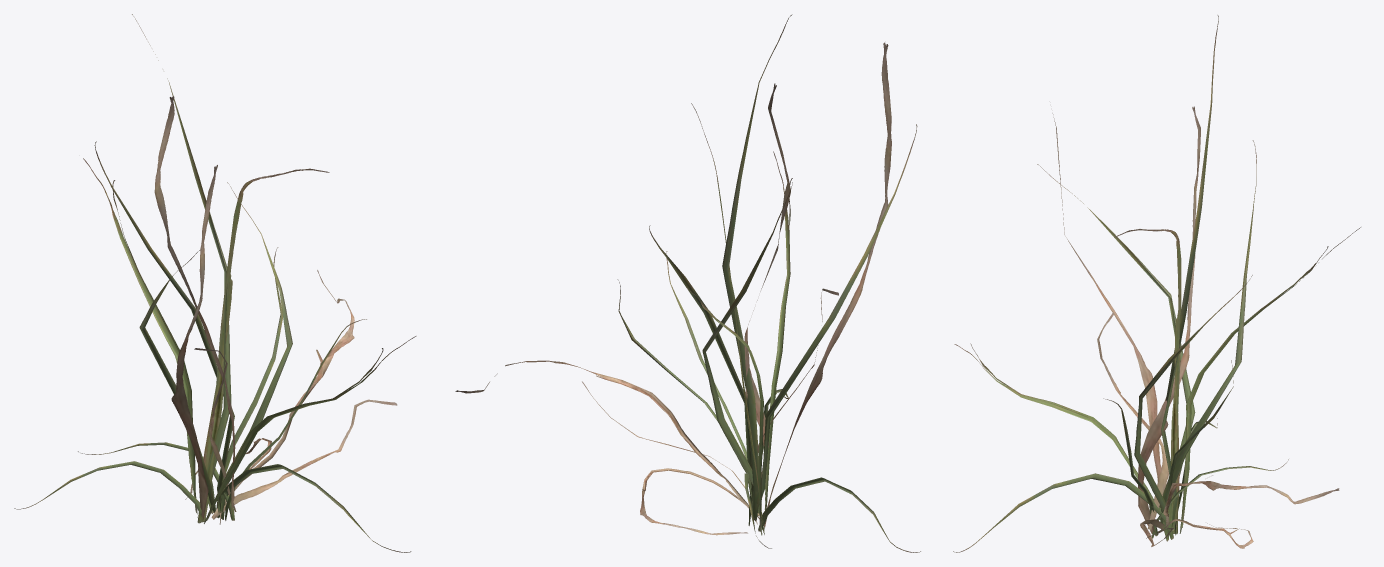
The picture shows the model from 3 angles, left to right: view 1: azimuth 30°, elevation 25°; view 2: azimuth 150°, elevation 25°; view 3: azimuth 270°, elevation 25°; orthographic projection. The views are drawn at different scales.
Parts seen in each view (by area): view 1: grass_medium_02__a_lod0; view 2: grass_medium_02__a_lod0; view 3: grass_medium_02__a_lod0.
Boxes of the visible parts, <box> form: grass_medium_02__a_lod0: <box>14,14,416,552</box>; grass_medium_02__a_lod0: <box>455,14,920,552</box>; grass_medium_02__a_lod0: <box>953,15,1360,552</box>.
Size of the model in its own units: 0.1191 by 0.1569 by 0.1198.
Materials: 1 (1 with a texture image).
